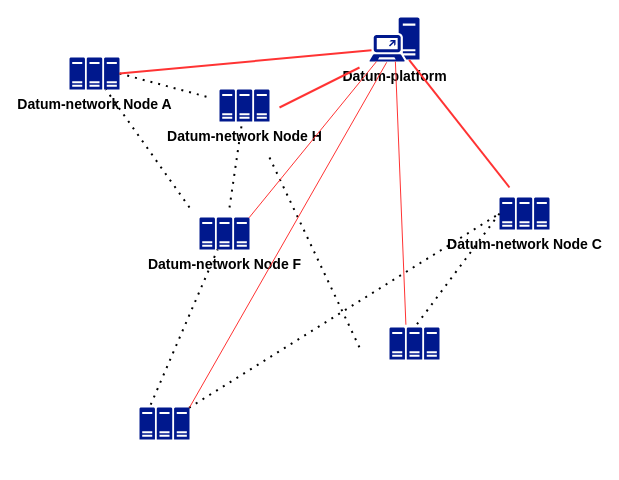
This 619x480 diagram has some shape labels left out. The shapes that lost their labels are listed below. From the top down, each one's centre as x and y in pixels, then its label:
At point 414,343: "Datum-network Node K".
At point 164,423: "Datum-network Node E".
